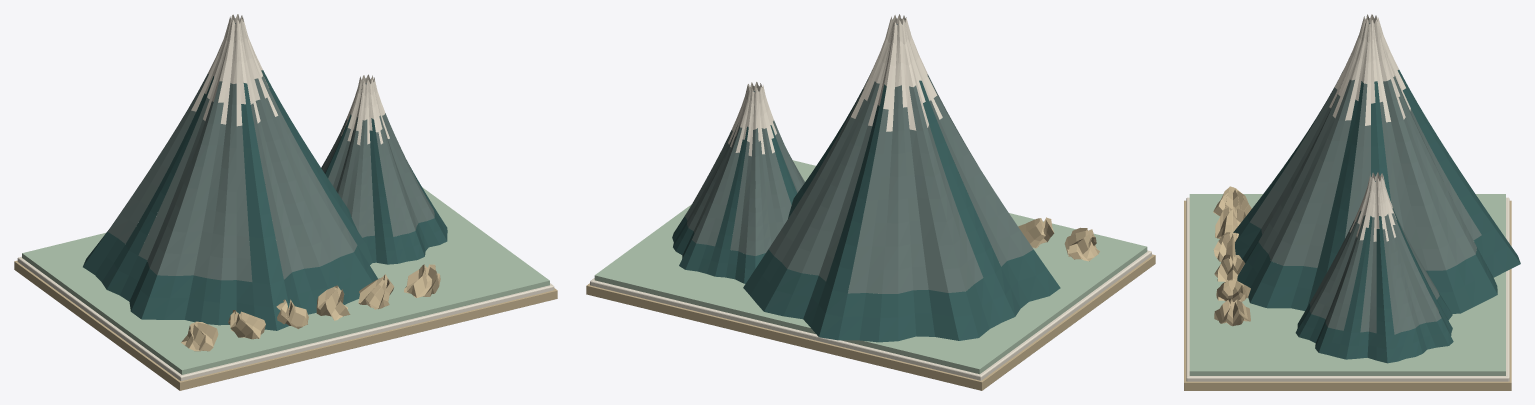
File: kamchatka.glb
The picture shows the model from 3 angles, left to right: view 1: azimuth 30°, elevation 25°; view 2: azimuth 150°, elevation 25°; view 3: azimuth 270°, elevation 25°; orthographic projection. The views are drawn at different scales.
Parts seen in each view (by area): view 1: kamchatka_basalt, kamchatka_roof, kamchatka_mint, kamchatka_stone, kamchatka_ivory; view 2: kamchatka_basalt, kamchatka_roof, kamchatka_mint, kamchatka_ivory, kamchatka_stone; view 3: kamchatka_basalt, kamchatka_roof, kamchatka_mint, kamchatka_ivory, kamchatka_stone.
Boxes of the visible parts, left/top/right/bottom form: kamchatka_basalt: left=107, top=73, right=434, bottom=281; kamchatka_roof: left=83, top=70, right=447, bottom=330; kamchatka_mint: left=22, top=187, right=549, bottom=374; kamchatka_stone: left=14, top=260, right=557, bottom=390; kamchatka_ivory: left=17, top=14, right=554, bottom=380; kamchatka_basalt: left=685, top=74, right=1033, bottom=293; kamchatka_roof: left=672, top=71, right=1060, bottom=342; kamchatka_mint: left=594, top=160, right=1147, bottom=374; kamchatka_ivory: left=590, top=14, right=1151, bottom=380; kamchatka_stone: left=586, top=217, right=1155, bottom=390; kamchatka_basalt: left=1250, top=75, right=1481, bottom=334; kamchatka_roof: left=1233, top=70, right=1520, bottom=363; kamchatka_mint: left=1189, top=194, right=1505, bottom=375; kamchatka_ivory: left=1186, top=14, right=1509, bottom=381; kamchatka_stone: left=1184, top=186, right=1511, bottom=390.
Size of the model in its own units: 7.5 by 5.08 by 5.86.
